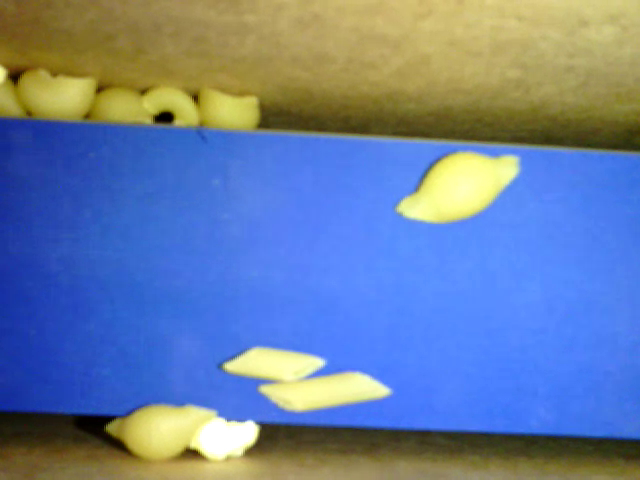elbow: (144, 84, 201, 127)
penne: (259, 370, 391, 412), (220, 344, 327, 382)
shell: (395, 152, 521, 224), (106, 402, 219, 460), (16, 66, 95, 122), (195, 87, 259, 130), (87, 87, 154, 125)
